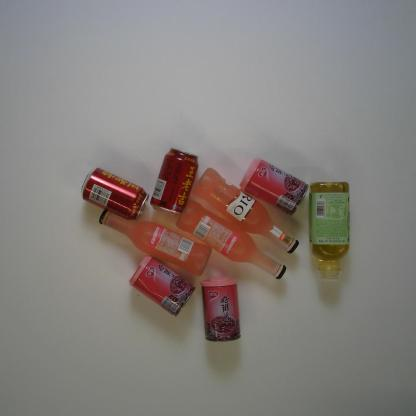Alcohol: (193, 167, 299, 254), (175, 199, 287, 280), (98, 209, 212, 277)
Canned Food: (129, 255, 196, 317), (239, 158, 309, 217), (200, 275, 241, 343)
Drink: (308, 181, 350, 282), (80, 166, 150, 222), (150, 147, 199, 218)
